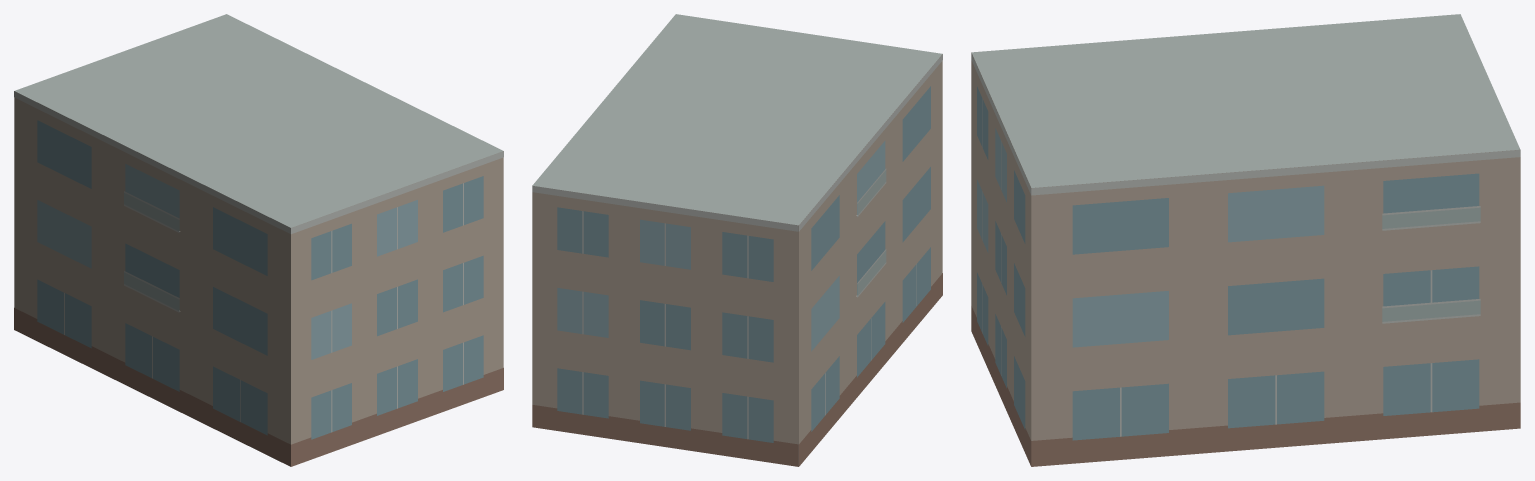
File: survey-upis-33014807.glb
The picture shows the model from 3 angles, left to right: view 1: azimuth 30°, elevation 25°; view 2: azimuth 150°, elevation 25°; view 3: azimuth 270°, elevation 25°; orthographic projection. The views are drawn at different scales.
Visible parts, largest first — view 1: survey-upis-33014807.tmp; view 2: survey-upis-33014807.tmp; view 3: survey-upis-33014807.tmp.
Boxes of the visible parts, x1,y1,x2,y2 form: survey-upis-33014807.tmp: [14, 14, 503, 466]; survey-upis-33014807.tmp: [532, 14, 942, 466]; survey-upis-33014807.tmp: [971, 14, 1520, 466].
Bounding box in the file's own units: 12.26 × 9.15 × 16.34.
